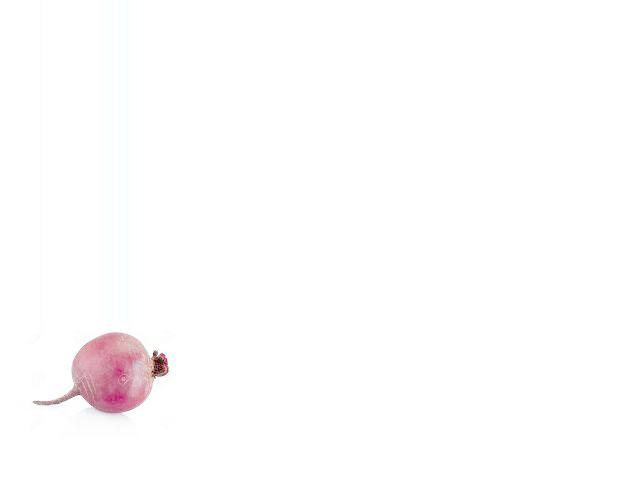beet: (33, 333, 167, 413)
